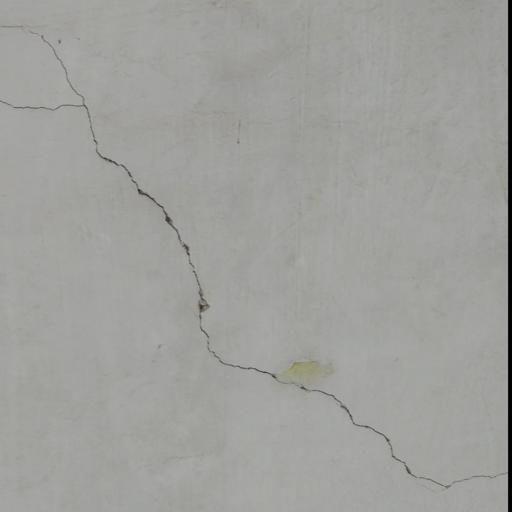minor_crack: (0, 16, 509, 493)
